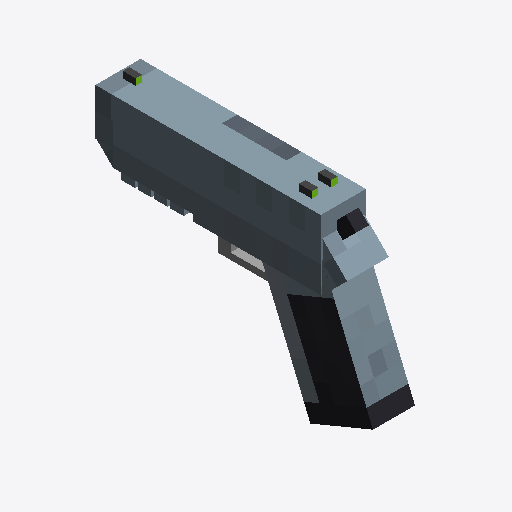
Isometric view (azimuth 45°, elevation 35.3°) of a Minecraft model made of 18 cuboids, textured from the same repository.
Visible parts, largest first — slide, handle, body (×2), handle_lip, trigger_guard, hammer.
Part boxes in pixels (x1,y1,x2,y2): slide: (95,59,365,240); handle: (262,260,414,429); body (×2): (113,122,365,294); handle_lip: (322,215,388,289); trigger_guard: (218,246,267,280); hammer: (337,208,368,239).
Bounding box in the file's own units: 1.4 × 6 × 8.54.